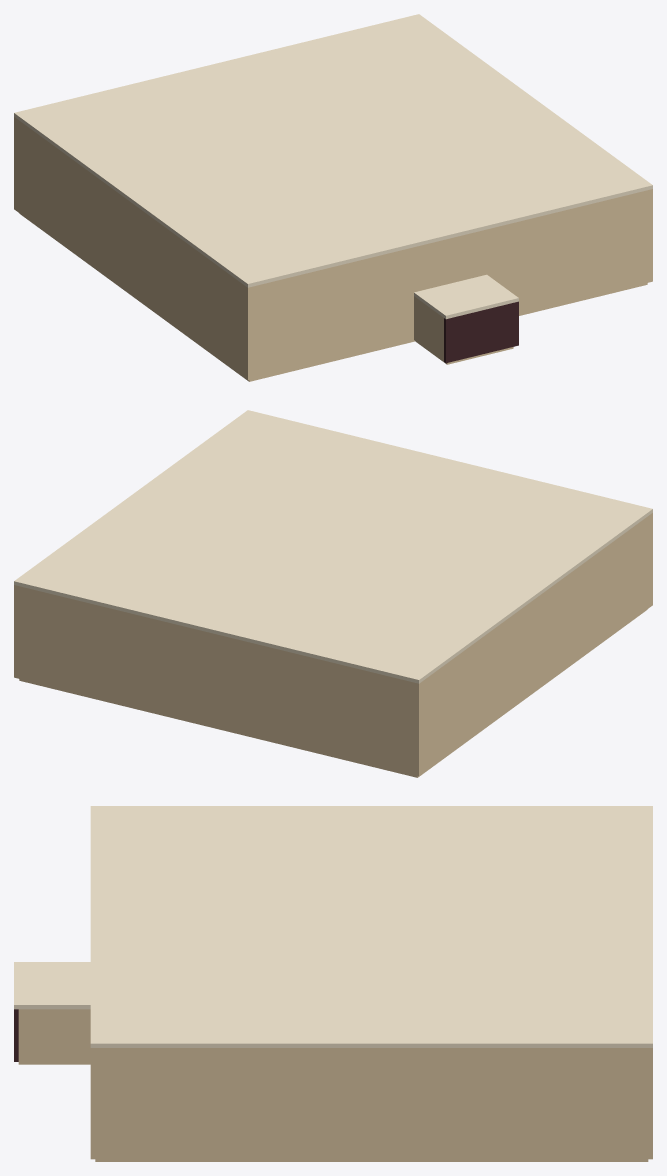
Rendered from hall_265.glb.
3 renders of one model, top to bottom at view 1: azimuth 30°, elevation 25°; view 2: azimuth 150°, elevation 25°; view 3: azimuth 270°, elevation 25°, orthographic. The views are drawn at different scales.
Parts seen in each view (by area): view 1: hall_265 ceiling, hall_265 wall, hall_265 wood, hall_265 floor; view 2: hall_265 ceiling, hall_265 wall, hall_265 floor; view 3: hall_265 ceiling, hall_265 wall, hall_265 floor.
Part boxes in pixels (left/top/right/bottom): hall_265 ceiling: left=14, top=14, right=652, bottom=319; hall_265 wall: left=14, top=117, right=652, bottom=380; hall_265 wood: left=444, top=301, right=518, bottom=363; hall_265 floor: left=19, top=213, right=647, bottom=381; hall_265 ceiling: left=14, top=410, right=652, bottom=683; hall_265 wall: left=14, top=513, right=652, bottom=776; hall_265 floor: left=19, top=609, right=647, bottom=777; hall_265 ceiling: left=14, top=806, right=652, bottom=1047; hall_265 wall: left=18, top=1009, right=652, bottom=1159; hall_265 floor: left=18, top=1062, right=648, bottom=1161.
Size of what is drawn, in the model's own units: 36.6 by 8.64 by 41.6.
